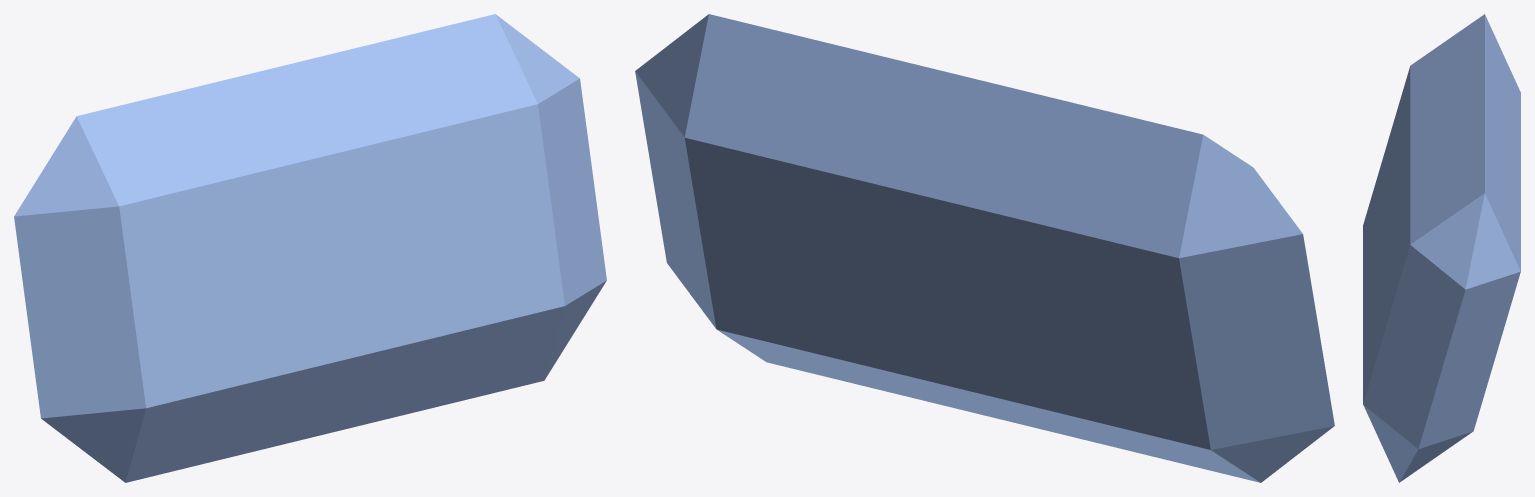
Rendered from pillowBlue.glb.
The picture shows the model from 3 angles, left to right: view 1: azimuth 30°, elevation 25°; view 2: azimuth 150°, elevation 25°; view 3: azimuth 270°, elevation 25°; orthographic projection. The views are drawn at different scales.
Visible parts, largest first — view 1: pillowBlue(Clone); view 2: pillowBlue(Clone); view 3: pillowBlue(Clone).
Boxes of the visible parts, x1=… form: pillowBlue(Clone): x1=14, y1=14, x2=606, y2=482; pillowBlue(Clone): x1=635, y1=14, x2=1334, y2=482; pillowBlue(Clone): x1=1363, y1=14, x2=1520, y2=482.
Bounding box in the file's own units: 0.4669 × 0.2609 × 0.1287.
1 material, 1 textured.
